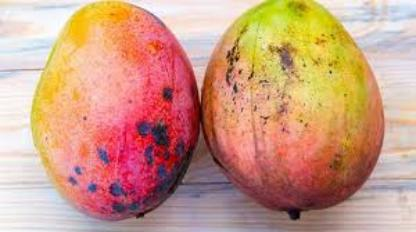defect: (60, 74, 194, 232), (228, 19, 346, 127)
